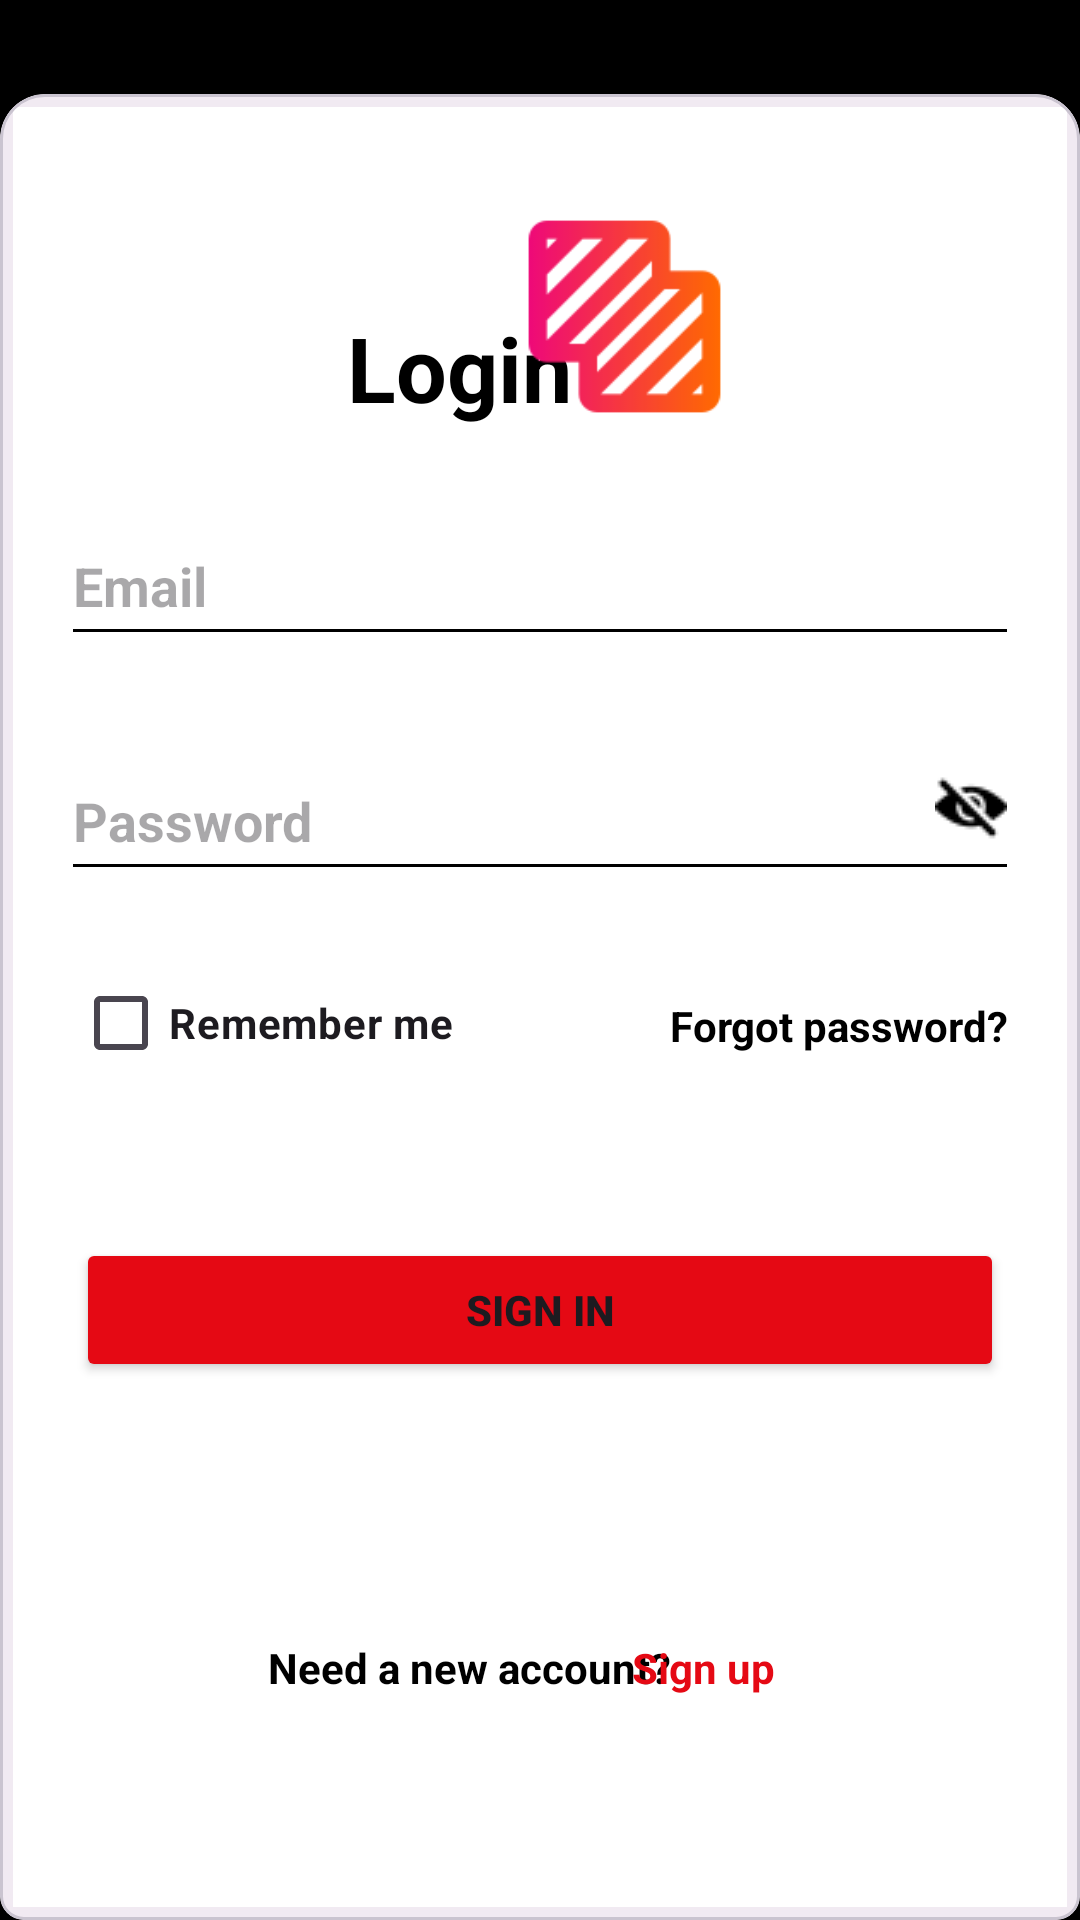

Point at icon controls on the screen. Image size 1080 x 1920, points as (x,y).
hide: (971,807)
